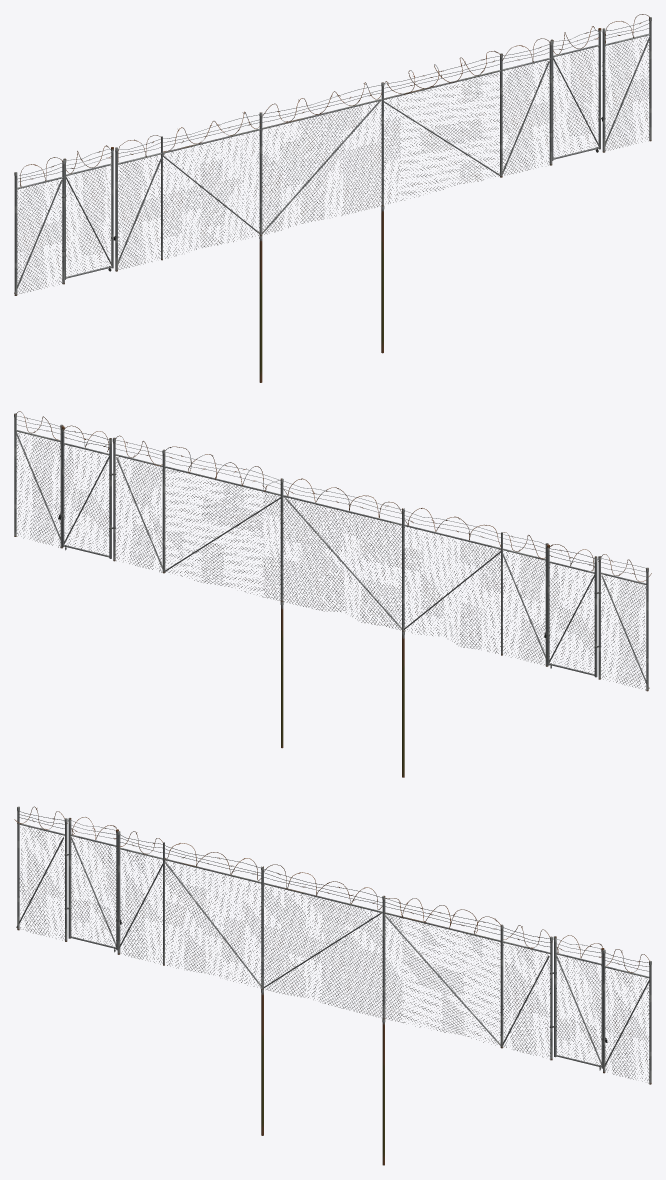
3 views of the same model, one above another, from view 1: azimuth 30°, elevation 25°; view 2: azimuth 150°, elevation 25°; view 3: azimuth 330°, elevation 25° (orthographic).
Parts seen in each view (by area): view 1: body0_model0_lod0_mesh1, body0_model0_lod0_mesh0; view 2: body0_model0_lod0_mesh1, body0_model0_lod0_mesh0; view 3: body0_model0_lod0_mesh1, body0_model0_lod0_mesh0.
Part boxes in pixels (box(x1,y1,x2,y2)): body0_model0_lod0_mesh1: box(17, 36, 649, 293); body0_model0_lod0_mesh0: box(14, 14, 651, 382); body0_model0_lod0_mesh1: box(16, 432, 646, 690); body0_model0_lod0_mesh0: box(14, 411, 651, 777); body0_model0_lod0_mesh1: box(19, 827, 649, 1083); body0_model0_lod0_mesh0: box(14, 806, 651, 1165).
Bounding box in the file's own units: 1602 × 662 × 54.17.
Materials: 2 (2 with a texture image).
